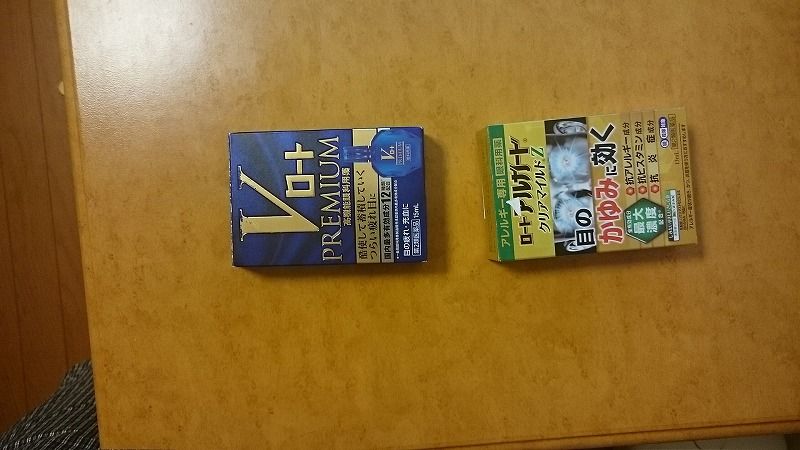C: (474, 103, 706, 264)
D: (223, 120, 435, 276)
